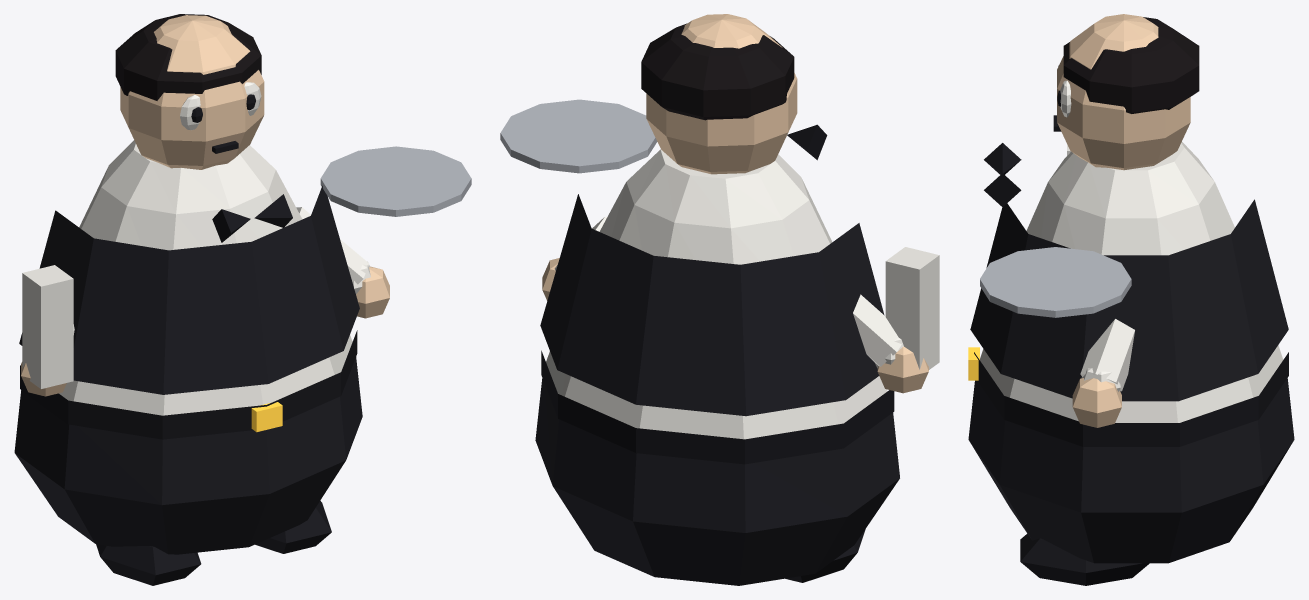
Rendered from npc_mozo.glb.
3 renders of one model, left to right at view 1: azimuth 30°, elevation 25°; view 2: azimuth 150°, elevation 25°; view 3: azimuth 270°, elevation 25°, orthographic. The views are drawn at different scales.
Visible parts, largest first — view 1: body_vest_black, body_white, head_skin_crema, body_black, props_tray_steel, props_white, head_hair_black, legs_black, arms_skin_crema, arms_white, body_gold, face_white; view 2: body_vest_black, body_white, head_hair_black, body_black, head_skin_crema, props_tray_steel, props_white, arms_white, arms_skin_crema, legs_black; view 3: body_vest_black, body_white, head_skin_crema, body_black, props_tray_steel, head_hair_black, legs_black, arms_white, arms_skin_crema.
Boxes of the visible parts, x1,y1,x2,y2 form: body_vest_black: [14, 185, 362, 554]; body_white: [59, 140, 352, 415]; head_skin_crema: [120, 15, 264, 169]; body_black: [20, 194, 357, 439]; props_tray_steel: [320, 146, 471, 216]; props_white: [22, 265, 73, 388]; head_hair_black: [115, 14, 261, 100]; legs_black: [96, 500, 331, 585]; arms_skin_crema: [21, 266, 389, 396]; arms_white: [73, 207, 370, 334]; body_gold: [251, 402, 282, 432]; face_white: [180, 82, 261, 130]; body_vest_black: [535, 194, 899, 585]; body_white: [546, 149, 887, 439]; head_hair_black: [641, 23, 794, 120]; body_black: [541, 124, 894, 464]; head_skin_crema: [646, 14, 797, 174]; props_tray_steel: [500, 99, 657, 173]; props_white: [885, 247, 939, 369]; arms_white: [554, 216, 903, 368]; arms_skin_crema: [542, 258, 928, 393]; legs_black: [785, 529, 865, 582]; body_vest_black: [968, 199, 1294, 563]; body_white: [980, 142, 1283, 422]; head_skin_crema: [1057, 14, 1190, 170]; body_black: [974, 143, 1288, 446]; props_tray_steel: [980, 247, 1131, 317]; head_hair_black: [1063, 17, 1199, 113]; legs_black: [1020, 533, 1149, 585]; arms_white: [1080, 319, 1134, 391]; arms_skin_crema: [1072, 378, 1121, 427].
Bounding box in the file's own units: 1.29 × 1.53 × 0.86.
